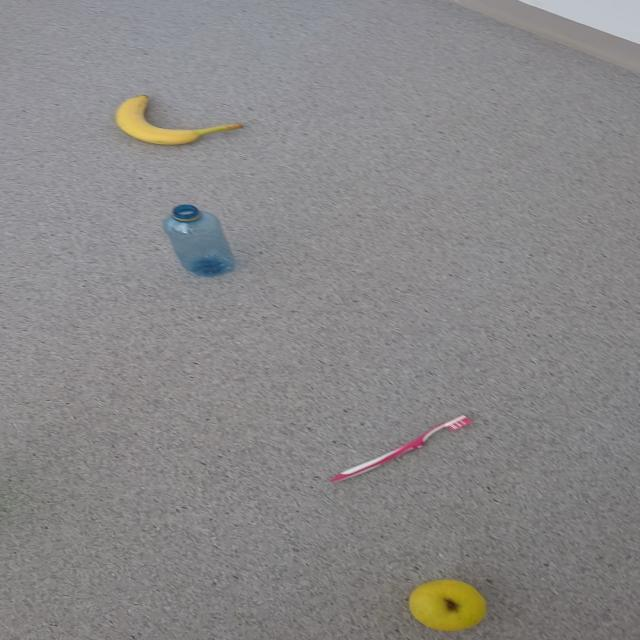apple: (407, 579, 487, 631)
banana: (114, 94, 243, 146)
bottle: (161, 203, 235, 278)
toothbrush: (329, 414, 473, 483)
